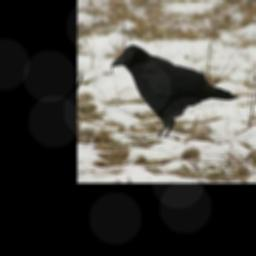Crow: (107, 39, 236, 140)
